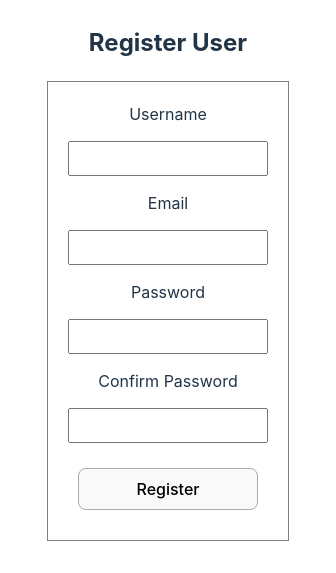
Test: Register Component › shows error for short password and does not submit
Type "testuser" into the field labelled "Username" at [168, 159], box [68,141,268,176]
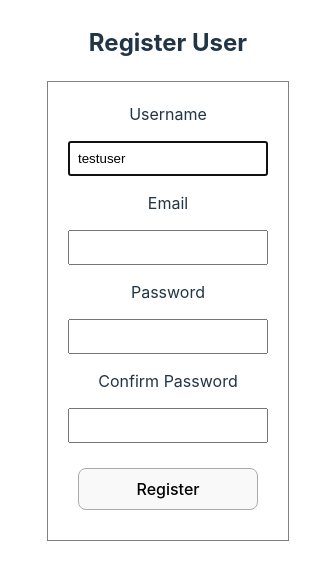
Type "test@example.com" into the field labelled "Email" at [168, 248], box [68,230,268,265]
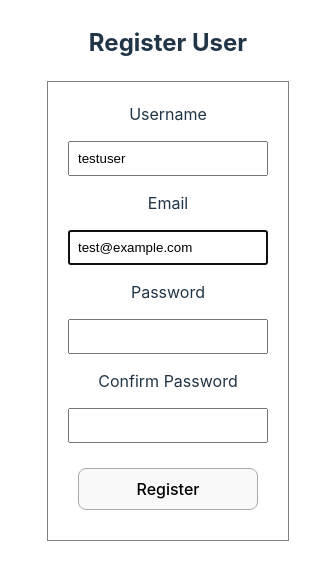
Type "short" into the password field labelled "Password" at [168, 337], box [68,319,268,354]
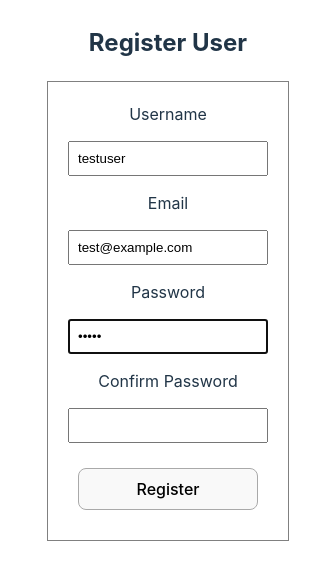
Type "short" into the password field labelled "Confirm Password" at [168, 426], box [68,408,268,443]
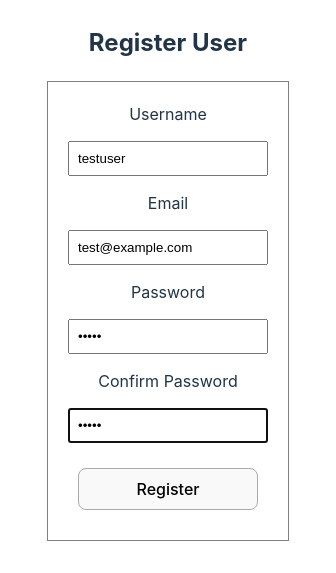
Click the button "Register" at [168, 489], box [78,468,258,510]
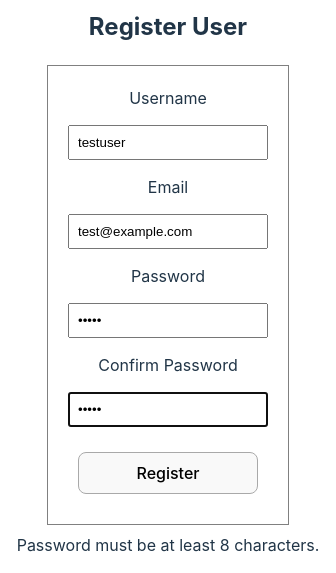
Now the text "Password must be at least 8 characters." is shown, box [17,532,319,556]
